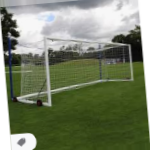goals: (11, 35, 137, 107)
